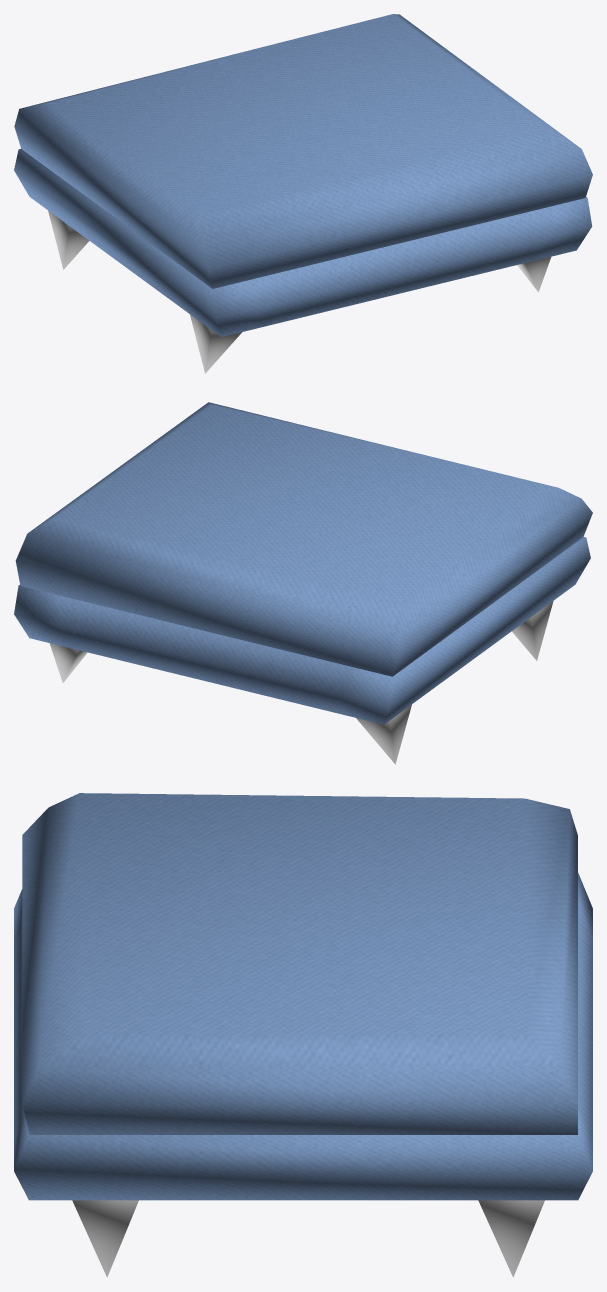
File: Ottoman_A_16.FBX
The picture shows the model from 3 angles, top to bottom: view 1: azimuth 30°, elevation 25°; view 2: azimuth 150°, elevation 25°; view 3: azimuth 270°, elevation 25°; orthographic projection. The views are drawn at different scales.
Visible parts, largest first — view 1: Ottoman; view 2: Ottoman; view 3: Ottoman.
Part boxes in pixels (box(x1,y1,x2,y2)): Ottoman: box(14, 14, 592, 373); Ottoman: box(14, 402, 592, 764); Ottoman: box(14, 793, 592, 1277).
Bounding box in the file's own units: 190 × 80.28 × 173.
